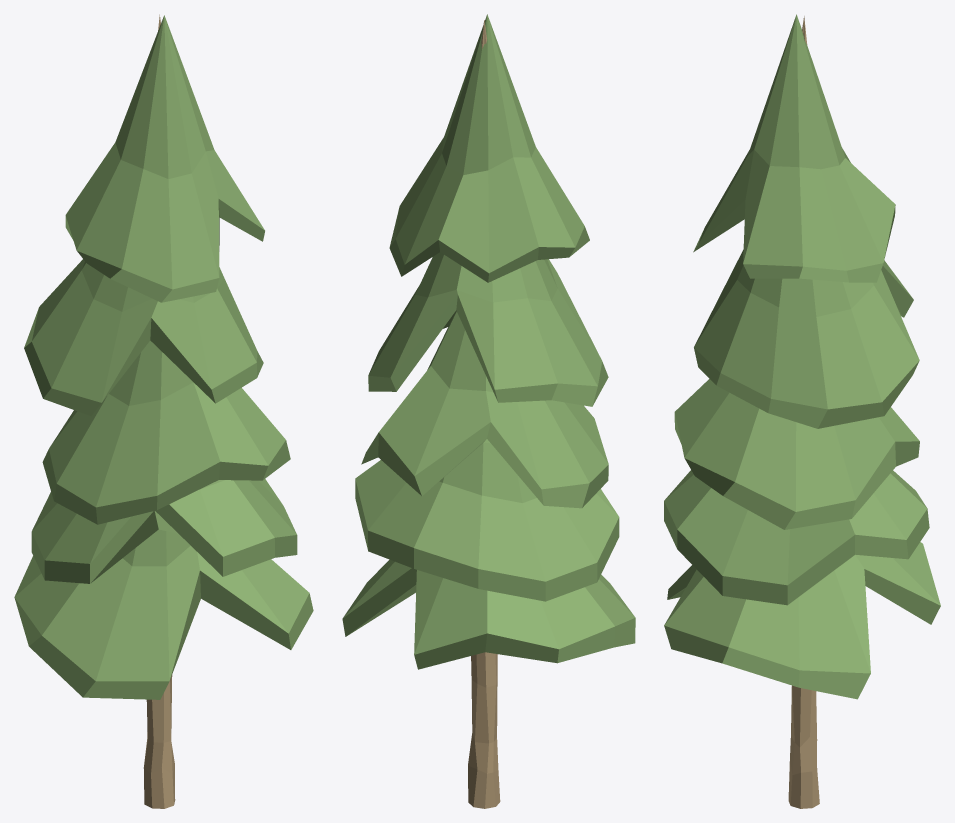
Rendered from Pine_02.fbx.
3 renders of one model, left to right at view 1: azimuth 30°, elevation 25°; view 2: azimuth 150°, elevation 25°; view 3: azimuth 270°, elevation 25°, orthographic.
Visible parts, largest first — view 1: Pine_2; view 2: Pine_2; view 3: Pine_2.
Boxes of the visible parts, bbox=[...] form: Pine_2: bbox=[14, 14, 313, 808]; Pine_2: bbox=[342, 14, 635, 808]; Pine_2: bbox=[664, 14, 940, 808].
Size of the model in its own units: 1849 by 5415 by 1723.
